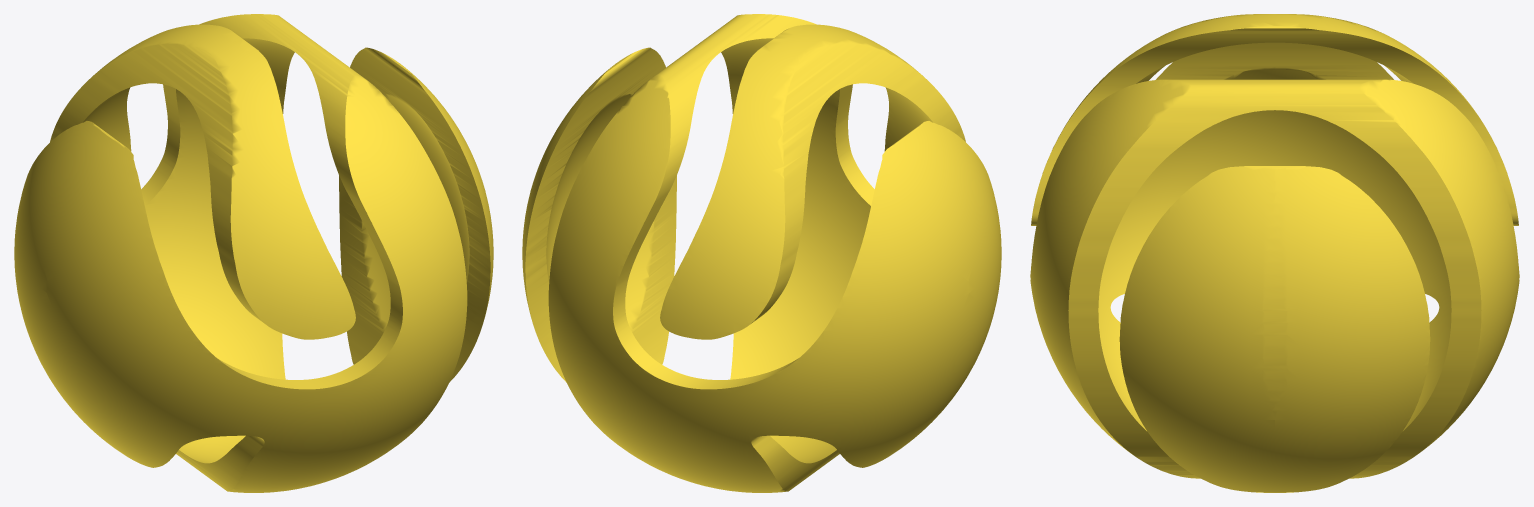
The model's file is sinhala_kw_globe_shell.glb.
The picture shows the model from 3 angles, left to right: view 1: azimuth 30°, elevation 25°; view 2: azimuth 150°, elevation 25°; view 3: azimuth 270°, elevation 25°; orthographic projection. The views are drawn at different scales.
Parts seen in each view (by area): view 1: SinhalaKW_Globe_Shell; view 2: SinhalaKW_Globe_Shell; view 3: SinhalaKW_Globe_Shell.
Boxes of the visible parts, x1,y1,x2,y2 form: SinhalaKW_Globe_Shell: [14, 14, 493, 492]; SinhalaKW_Globe_Shell: [522, 14, 1001, 492]; SinhalaKW_Globe_Shell: [1030, 14, 1519, 492].
Bounding box in the file's own units: 2 × 2 × 1.99.
